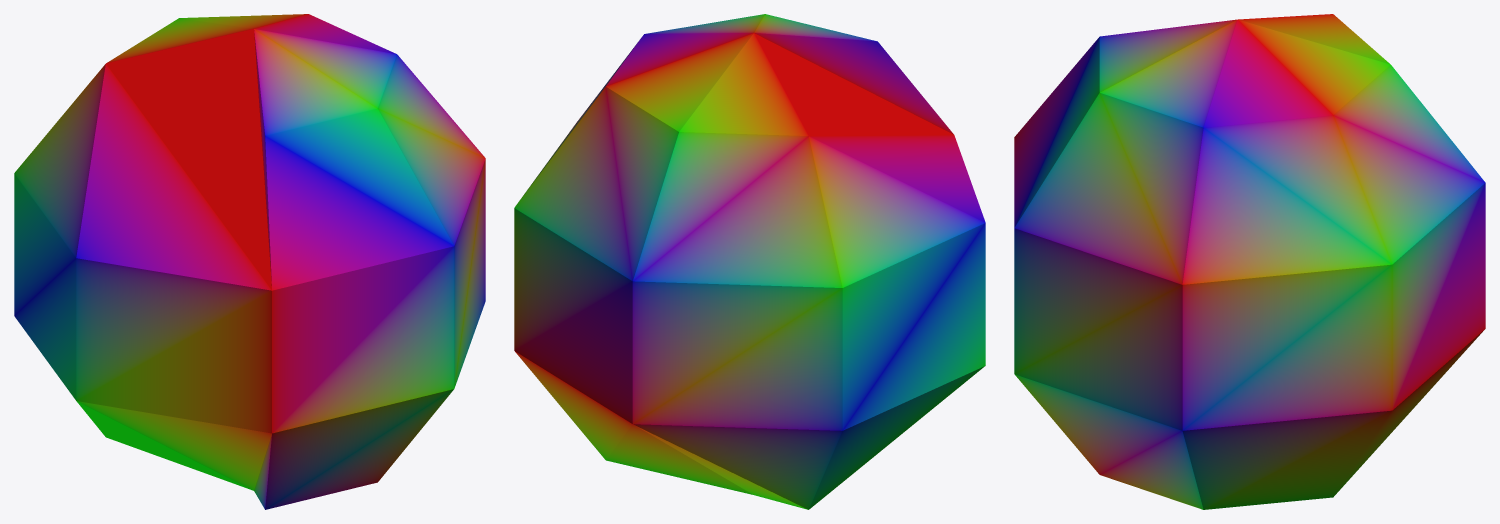
File: all_17.obj
3 views of the same model, side by side, from view 1: azimuth 30°, elevation 25°; view 2: azimuth 150°, elevation 25°; view 3: azimuth 270°, elevation 25° (orthographic). The views are drawn at different scales.
Size of the model in its own units: 1.85 by 2 by 1.81.
